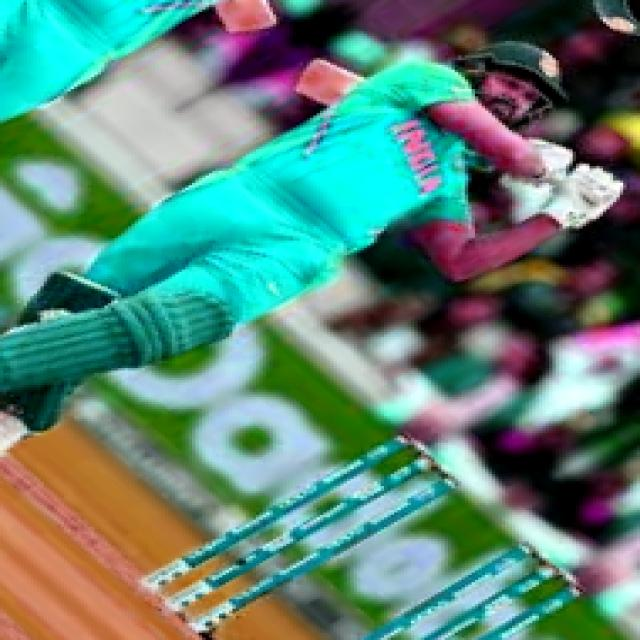toe: (292, 54, 345, 102)
